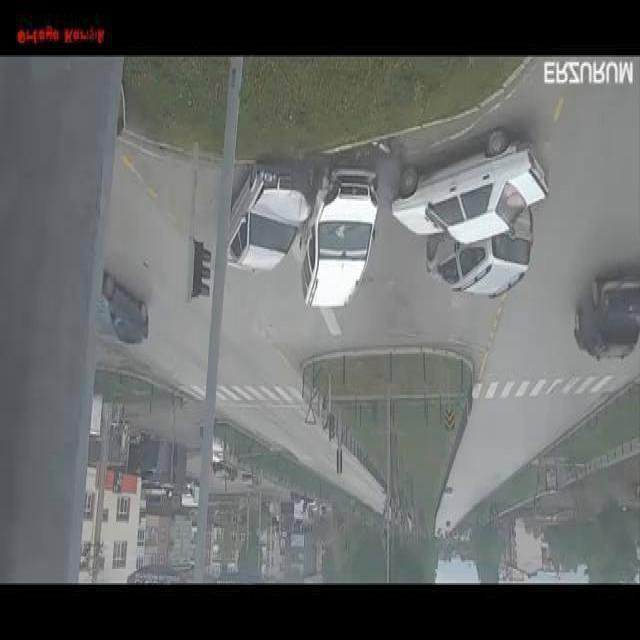vehicle: (200, 136, 407, 312)
